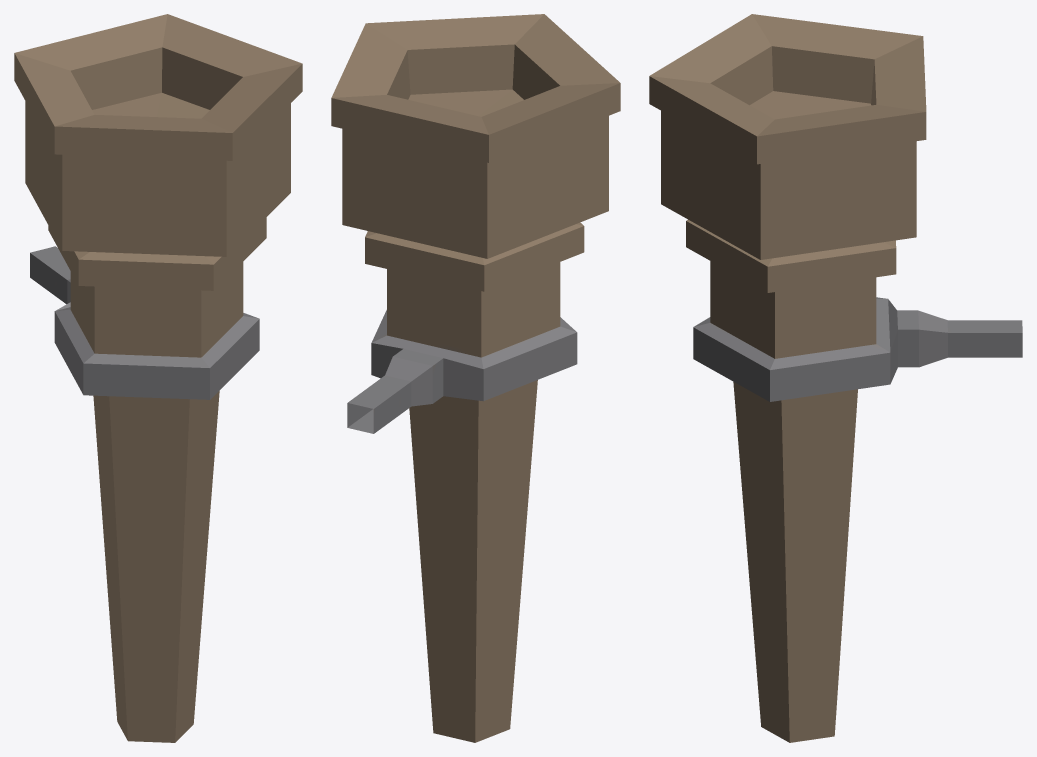
The model's file is Torch (1).fbx.
The picture shows the model from 3 angles, left to right: view 1: azimuth 30°, elevation 25°; view 2: azimuth 150°, elevation 25°; view 3: azimuth 270°, elevation 25°; orthographic projection.
Parts seen in each view (by area): view 1: Torch handle; view 2: Torch handle; view 3: Torch handle.
Boxes of the visible parts, bbox=[...] form: Torch handle: bbox=[14, 14, 302, 742]; Torch handle: bbox=[331, 14, 620, 742]; Torch handle: bbox=[649, 14, 1022, 742].
Size of the model in its own units: 158 by 392 by 204.
Materials: 1 (1 with a texture image).
